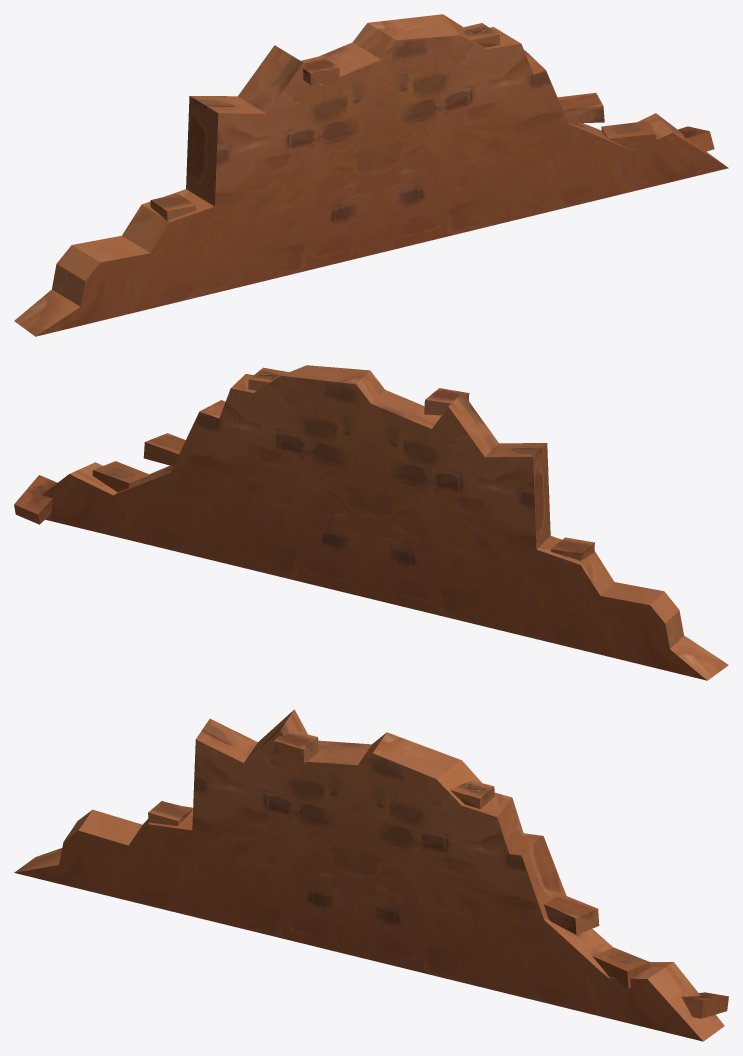
Rendered from oBldWalDirt01E.FBX.
The picture shows the model from 3 angles, top to bottom: view 1: azimuth 30°, elevation 25°; view 2: azimuth 150°, elevation 25°; view 3: azimuth 330°, elevation 25°; orthographic projection.
Parts seen in each view (by area): view 1: oBldWalDirt01E; view 2: oBldWalDirt01E; view 3: oBldWalDirt01E.
Part boxes in pixels (x1,y1,x2,y2): oBldWalDirt01E: [14, 14, 728, 336]; oBldWalDirt01E: [14, 365, 728, 680]; oBldWalDirt01E: [14, 709, 728, 1041].
Bounding box in the file's own units: 37.87 × 11.11 × 3.93.
1 material, 1 textured.
